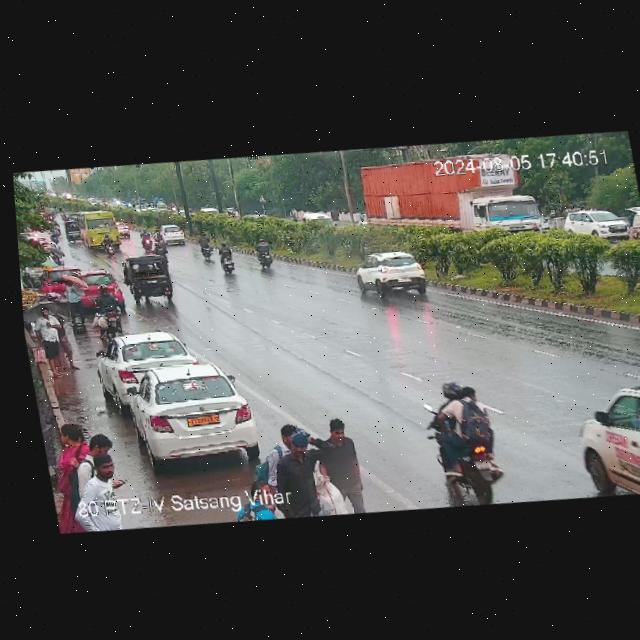bus: (75, 206, 129, 255)
car: (109, 351, 277, 481), (543, 313, 640, 501), (90, 324, 215, 416), (340, 237, 444, 317), (110, 249, 189, 310), (560, 192, 632, 245), (70, 259, 131, 318), (35, 258, 88, 299), (19, 250, 60, 285), (299, 206, 341, 231), (38, 238, 70, 268), (154, 221, 189, 248), (61, 217, 87, 243), (115, 218, 132, 240), (197, 205, 221, 218), (25, 233, 51, 244), (223, 204, 239, 218), (173, 205, 188, 218), (133, 202, 148, 212), (146, 206, 160, 213), (356, 220, 368, 227)
motorcycle: (390, 358, 531, 512), (87, 279, 133, 340), (243, 228, 286, 275), (209, 235, 246, 278), (190, 225, 224, 263), (21, 267, 51, 292), (132, 224, 157, 253), (149, 240, 174, 266), (97, 228, 117, 257), (149, 227, 169, 248), (47, 226, 63, 245), (52, 217, 63, 239), (285, 207, 299, 221), (248, 209, 271, 216), (57, 204, 68, 217), (100, 195, 113, 206), (225, 209, 236, 220), (113, 198, 125, 208), (259, 209, 276, 215), (48, 205, 57, 216), (170, 200, 176, 211), (126, 200, 133, 208)
person: (240, 400, 332, 489), (255, 403, 345, 490), (316, 397, 368, 516), (46, 414, 100, 503), (76, 422, 134, 500), (24, 300, 73, 382), (45, 301, 82, 377), (74, 446, 123, 502), (58, 271, 92, 329), (49, 249, 65, 264), (50, 251, 54, 252)
truck: (364, 167, 544, 243), (150, 195, 171, 213)
